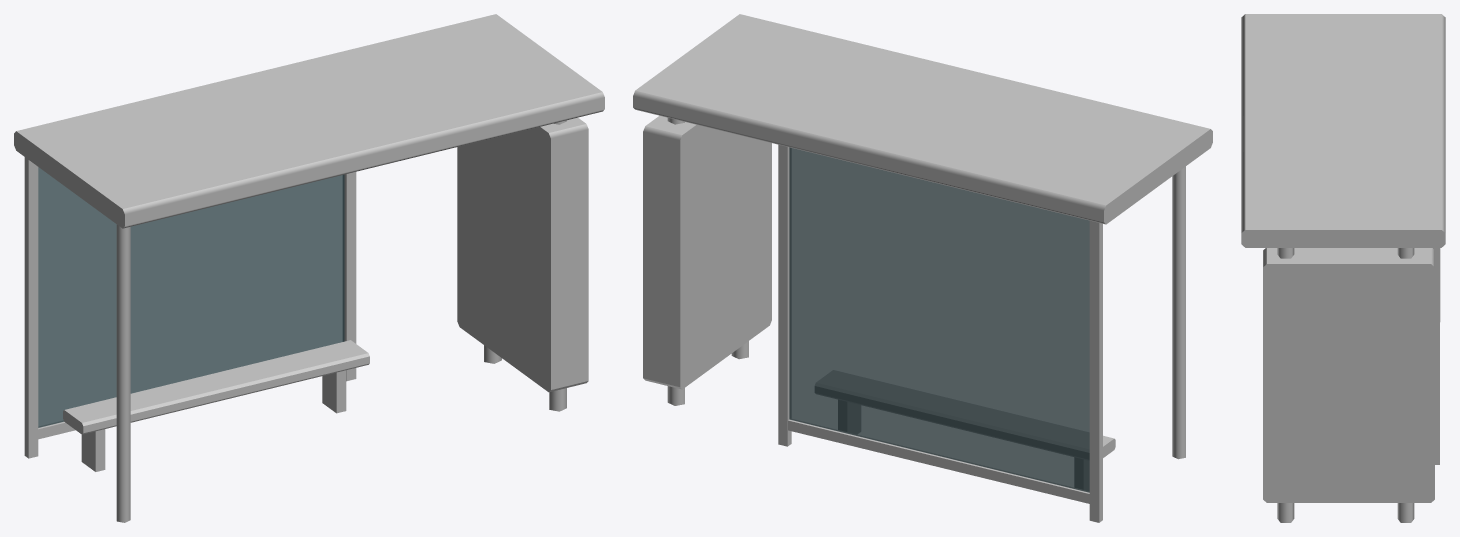
The model's file is Sun_0004_Bus_stop.fbx.
The picture shows the model from 3 angles, left to right: view 1: azimuth 30°, elevation 25°; view 2: azimuth 150°, elevation 25°; view 3: azimuth 270°, elevation 25°; orthographic projection. The views are drawn at different scales.
Visible parts, largest first — view 1: Sun_0004_Bus_stop; view 2: Sun_0004_Bus_stop; view 3: Sun_0004_Bus_stop.
Boxes of the visible parts, <box> form: Sun_0004_Bus_stop: <box>14,14,604,522</box>; Sun_0004_Bus_stop: <box>633,14,1212,522</box>; Sun_0004_Bus_stop: <box>1241,14,1445,522</box>.
Size of the model in its own units: 360 by 234 by 144.
